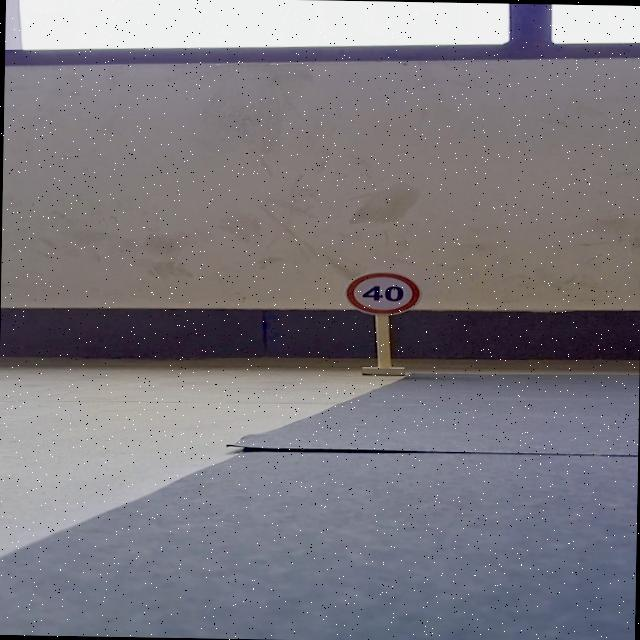Speed40: (332, 266, 434, 321)
